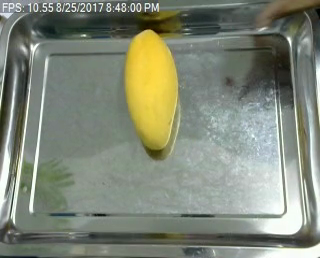Mango: (121, 25, 185, 153)
